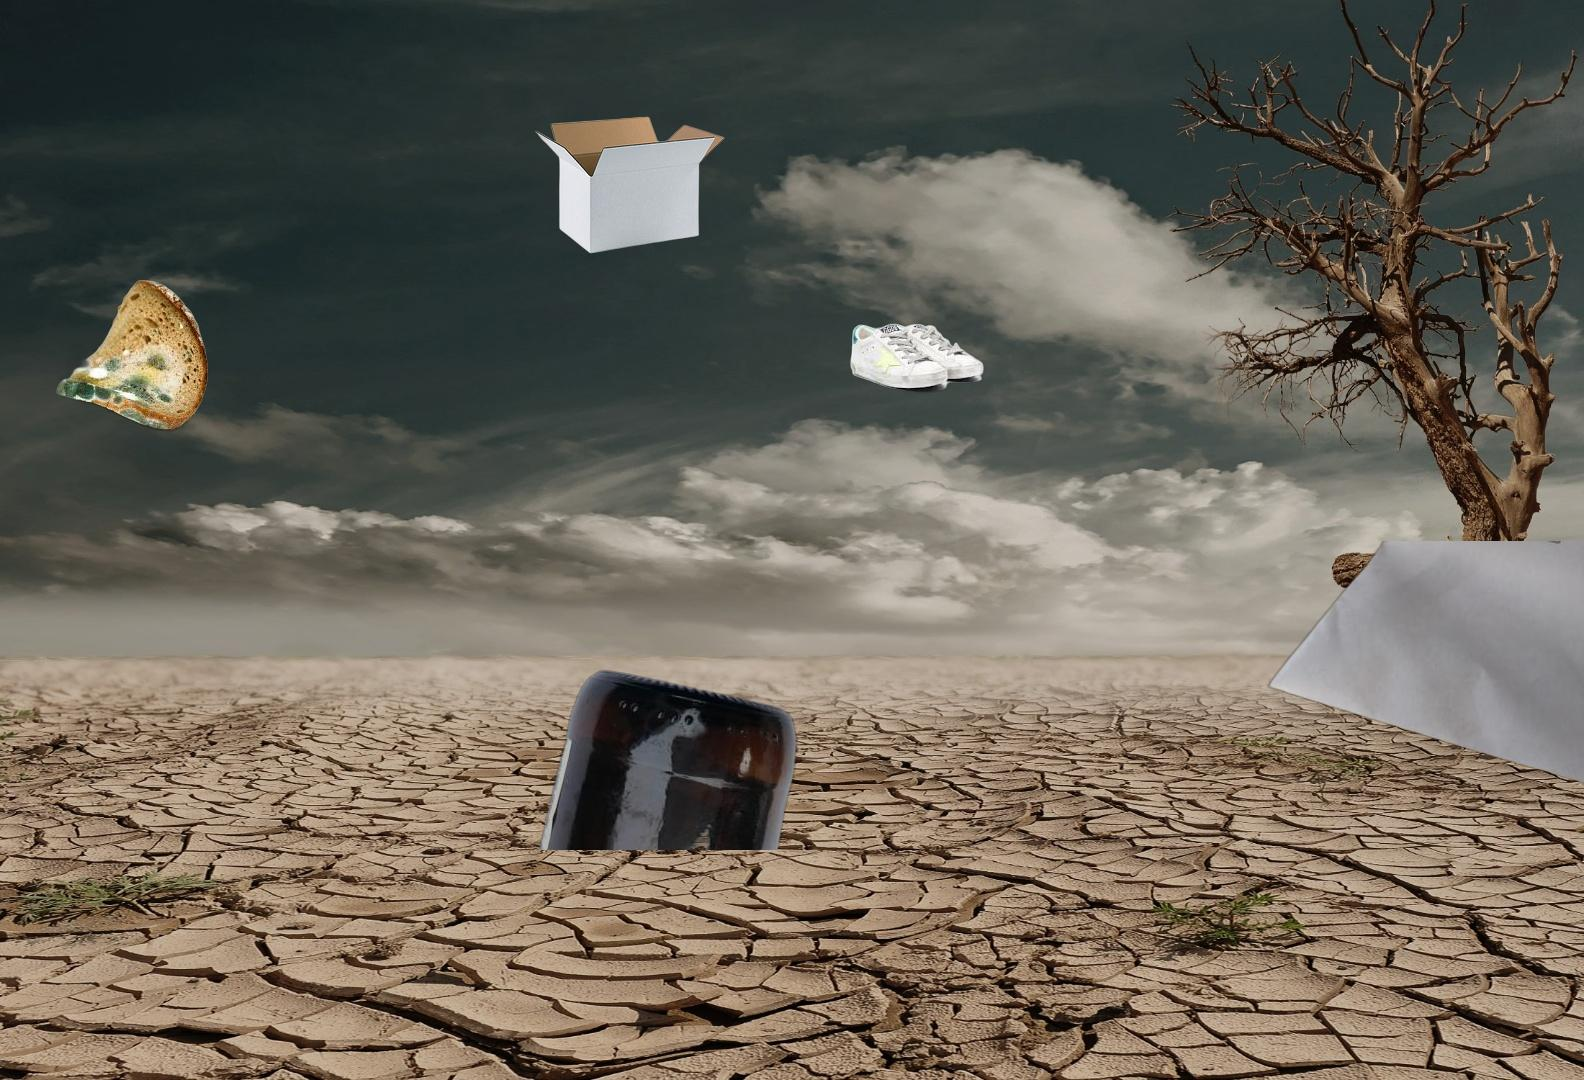biological: (53, 277, 211, 433)
glass: (534, 667, 800, 850)
paper: (1264, 541, 1584, 818)
shoes: (847, 321, 987, 396)
trashbox-cardboard: (532, 113, 728, 256)
